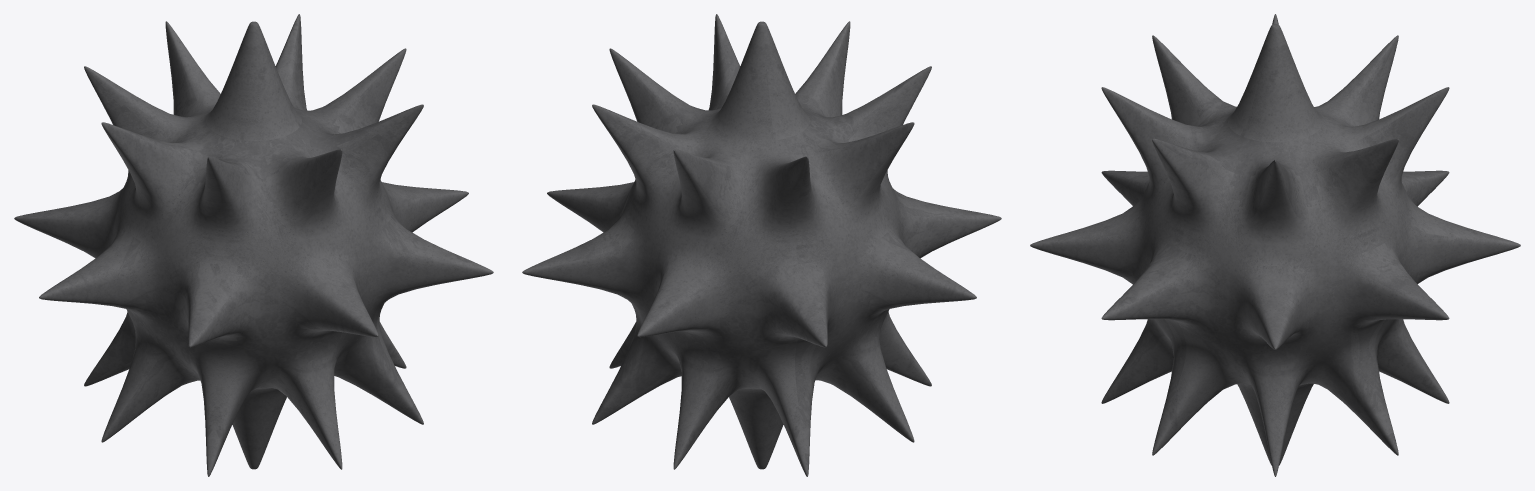
File: SpikedMetalBall_Clean.fbx
The picture shows the model from 3 angles, left to right: view 1: azimuth 30°, elevation 25°; view 2: azimuth 150°, elevation 25°; view 3: azimuth 270°, elevation 25°; orthographic projection.
Parts seen in each view (by area): view 1: spike1; view 2: spike1; view 3: spike1.
Part boxes in pixels (x1,y1,x2,y2): spike1: [14, 14, 493, 476]; spike1: [522, 14, 1001, 476]; spike1: [1030, 14, 1520, 476].
Size of the model in its own units: 100 by 99.11 by 100.
1 material, 1 textured.
